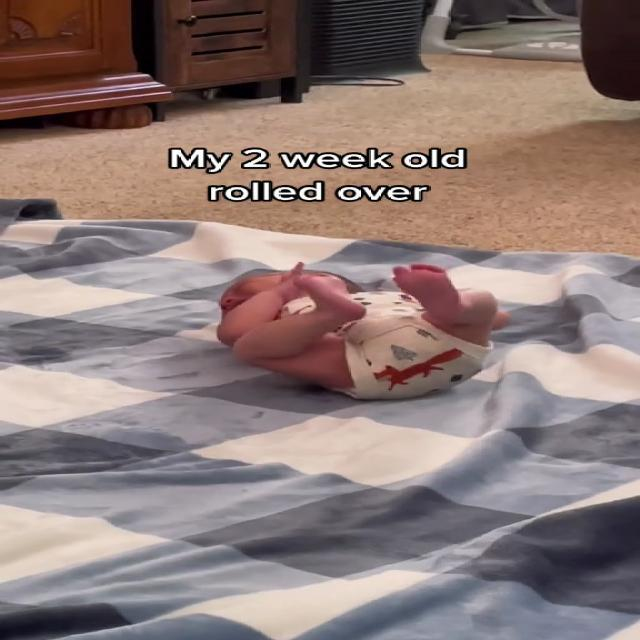baby: (209, 258, 526, 408)
